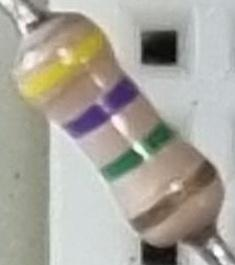Blue: (59, 71, 141, 143)
Green: (100, 119, 176, 191)
Side-Silver: (126, 159, 221, 241)
Yellow: (18, 29, 111, 104)
